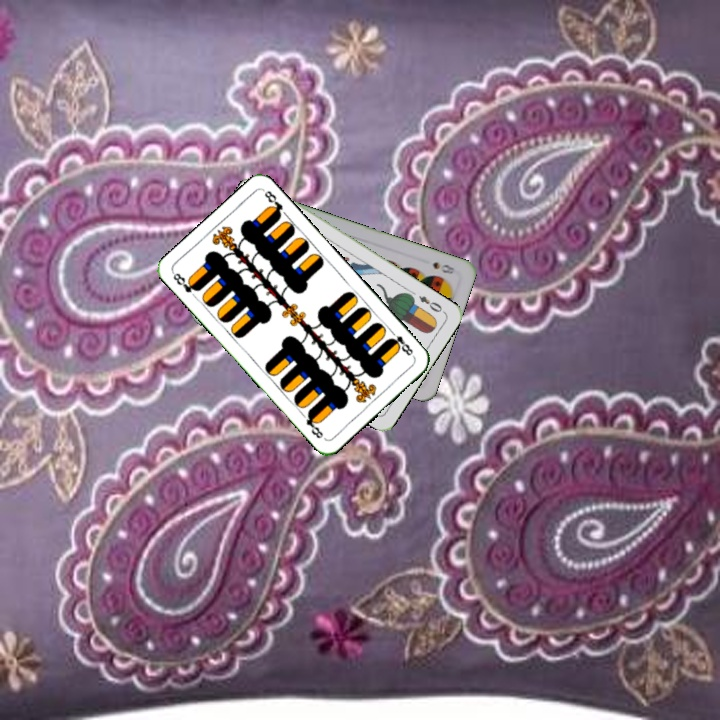E8: (385, 326, 416, 358), (169, 269, 202, 295)
EO: (415, 292, 448, 315)
S8: (429, 258, 461, 277)
